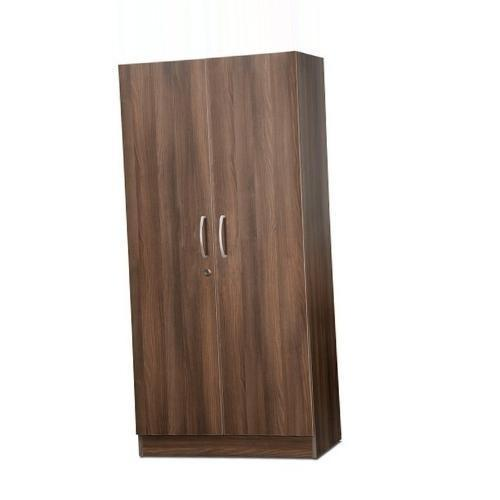Armario: (114, 53, 355, 467)
